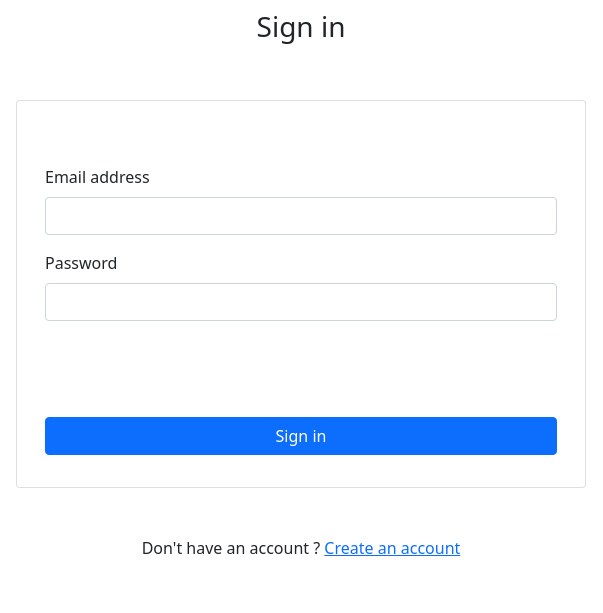
Test: LoginForm › should throw error if password is too short
Type "test@test.com" into the field with test id "email". click: coordinates (301, 216)
box: [45,197,557,235]
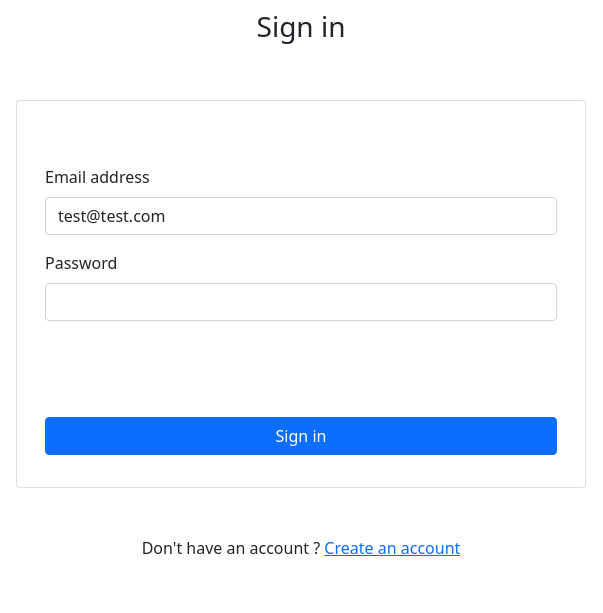
Type "lol" into the password field with test id "password". click: coordinates (301, 302)
box: [45,283,557,321]
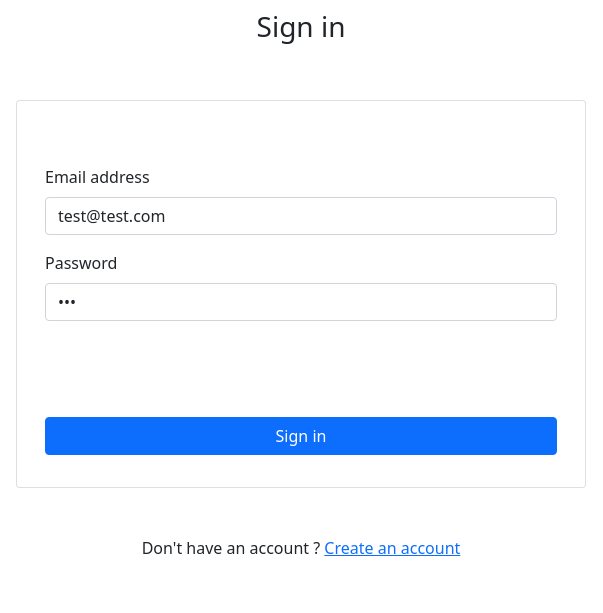
Click the button with test id "button". click: coordinates (301, 436)
box: [45,417,557,455]
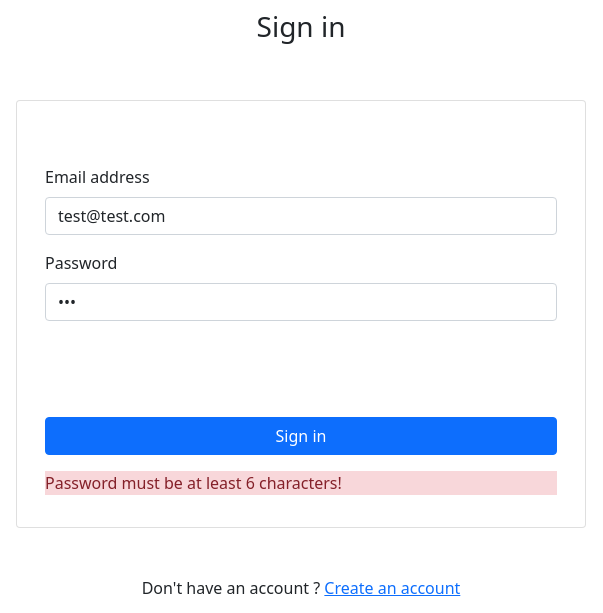
Check: the text with test id "error" reads "Password must be at least 6 characters!", box [45,472,342,494]
